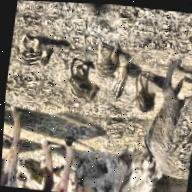boar: (12, 25, 62, 75), (57, 65, 107, 105), (128, 75, 164, 126), (91, 36, 128, 84), (104, 62, 138, 106)
